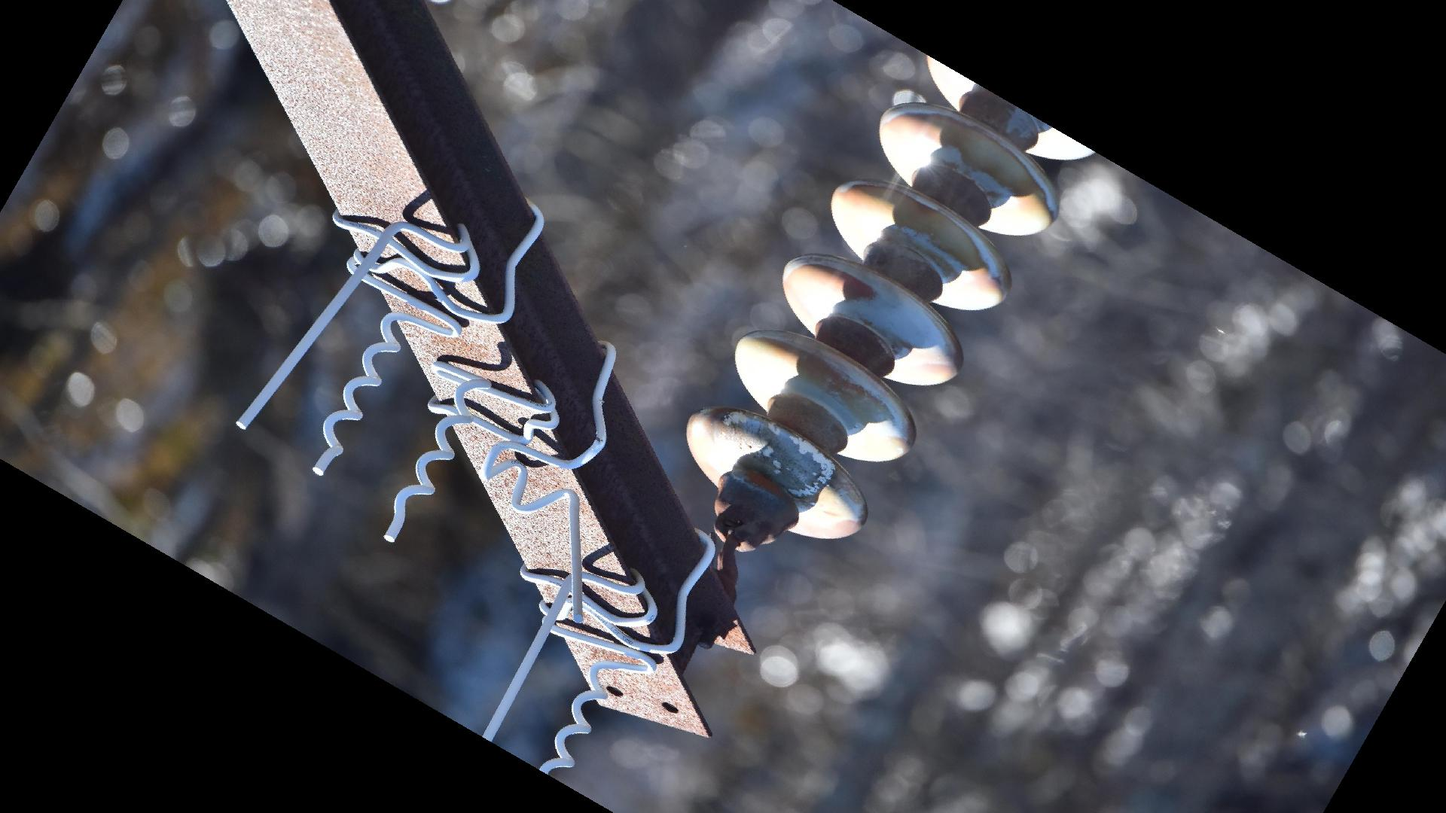insulator: (677, 48, 1100, 550)
insulator_flashover: (712, 406, 837, 500)
